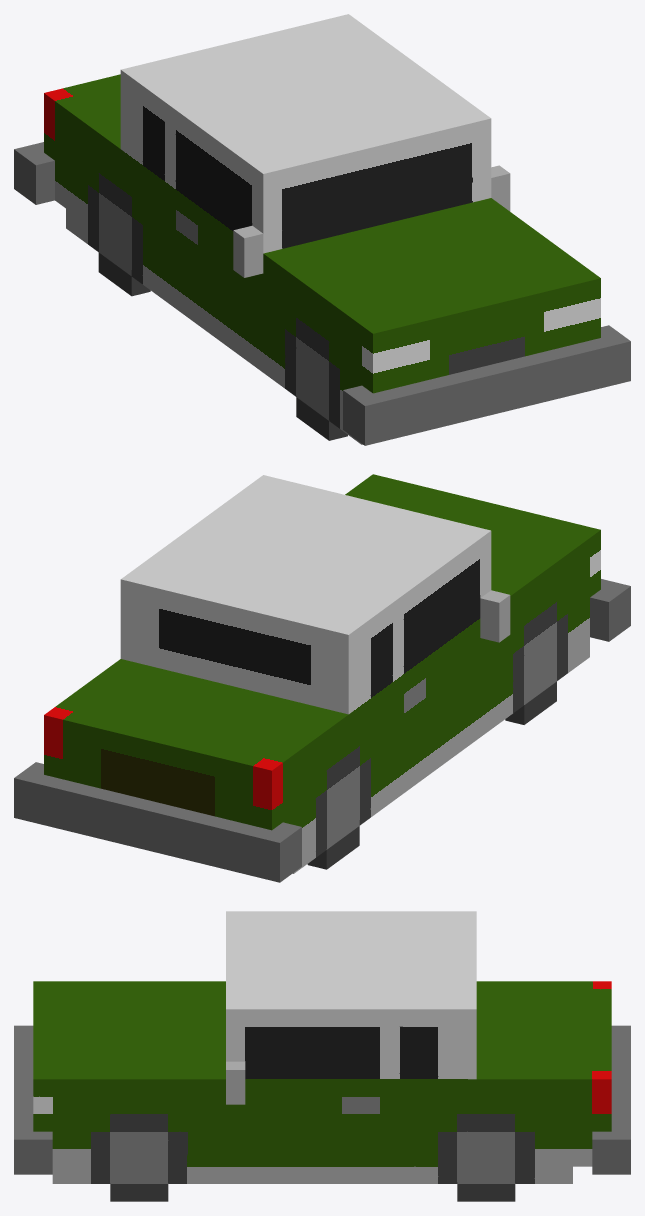
The model's file is veh_car5.fbx.
3 views of the same model, one above another, from view 1: azimuth 30°, elevation 25°; view 2: azimuth 150°, elevation 25°; view 3: azimuth 270°, elevation 25° (orthographic). The views are drawn at different scales.
Visible parts, largest first — view 1: veh_car5; view 2: veh_car5; view 3: veh_car5.
Boxes of the visible parts, box(x1,y1,x2,y2) form: veh_car5: box(14, 14, 630, 445); veh_car5: box(14, 474, 630, 882); veh_car5: box(14, 911, 630, 1201).
Bounding box in the file's own units: 1.4 × 3.2 × 1.1.
1 material, 1 textured.
